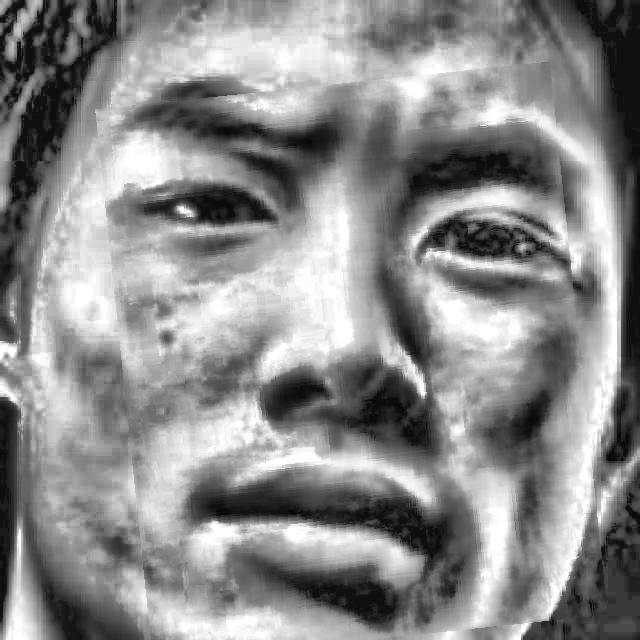angry: (109, 73, 593, 640)
